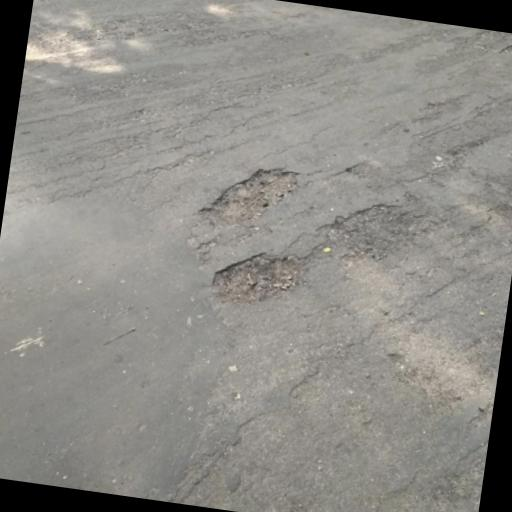pothole: (306, 190, 426, 270), (192, 153, 304, 238), (206, 241, 306, 317)
